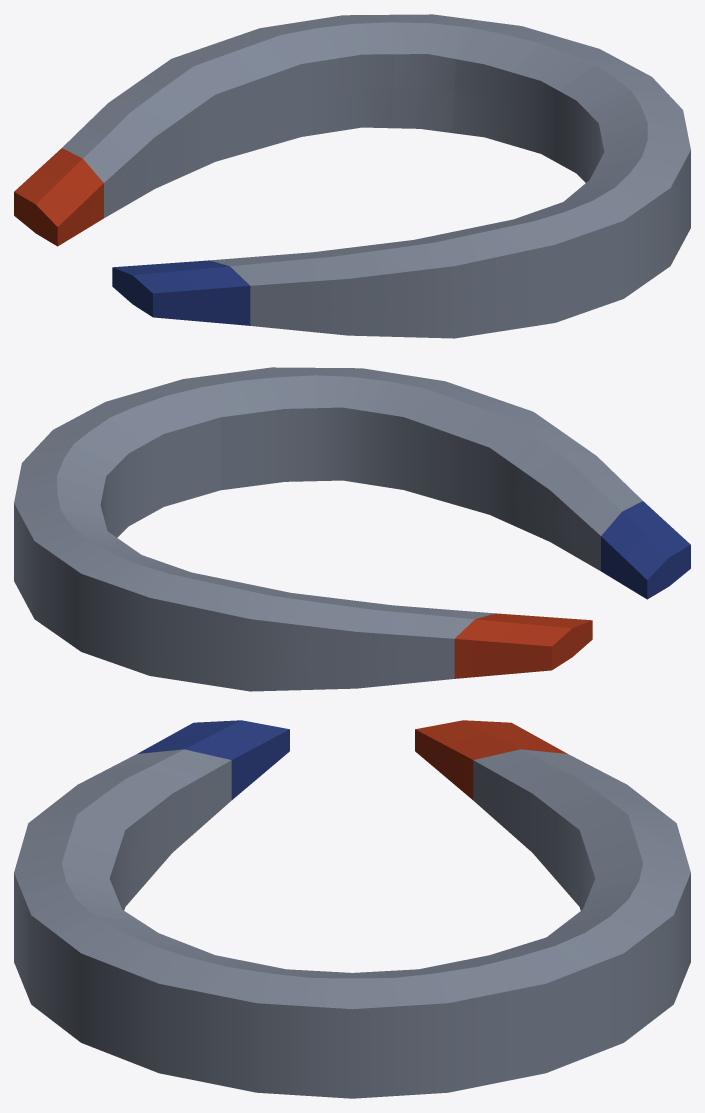
The model's file is Magnet.fbx.
3 views of the same model, one above another, from view 1: azimuth 30°, elevation 25°; view 2: azimuth 150°, elevation 25°; view 3: azimuth 270°, elevation 25° (orthographic). The views are drawn at different scales.
Visible parts, largest first — view 1: pCylinder3; view 2: pCylinder3; view 3: pCylinder3.
Boxes of the visible parts, left/top/right/bottom form: pCylinder3: left=14, top=14, right=690, bottom=338; pCylinder3: left=14, top=367, right=690, bottom=691; pCylinder3: left=14, top=720, right=690, bottom=1098.
Bounding box in the file's own units: 1.91 × 0.3054 × 1.72.
